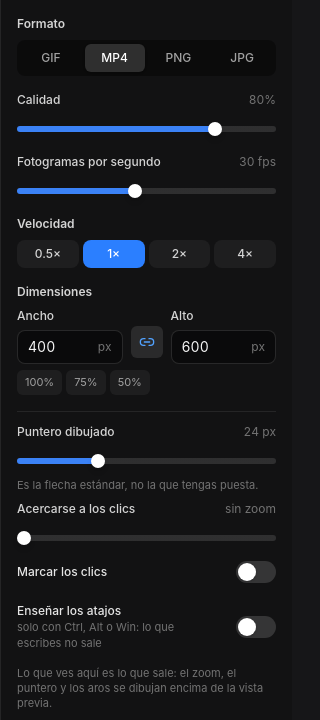
recortar la imagen › el 50 % es la mitad del trozo, no la mitad de la captura entera
Click the button "50%". click: (130, 382)
box: [110, 370, 150, 394]
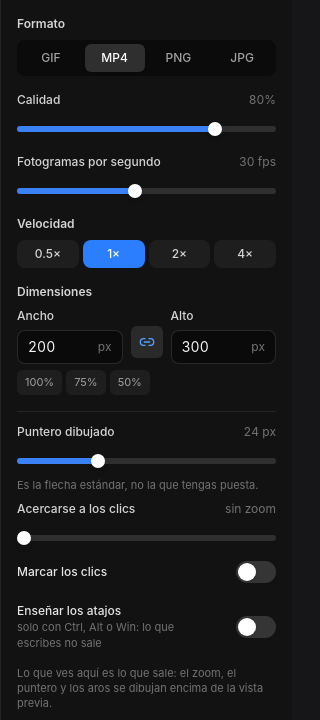
Expected: the number field labelled "Ancho" holds "200", [18, 331, 98, 363]
Expected: the number field labelled "Alto" holds "300", [172, 331, 251, 363]
